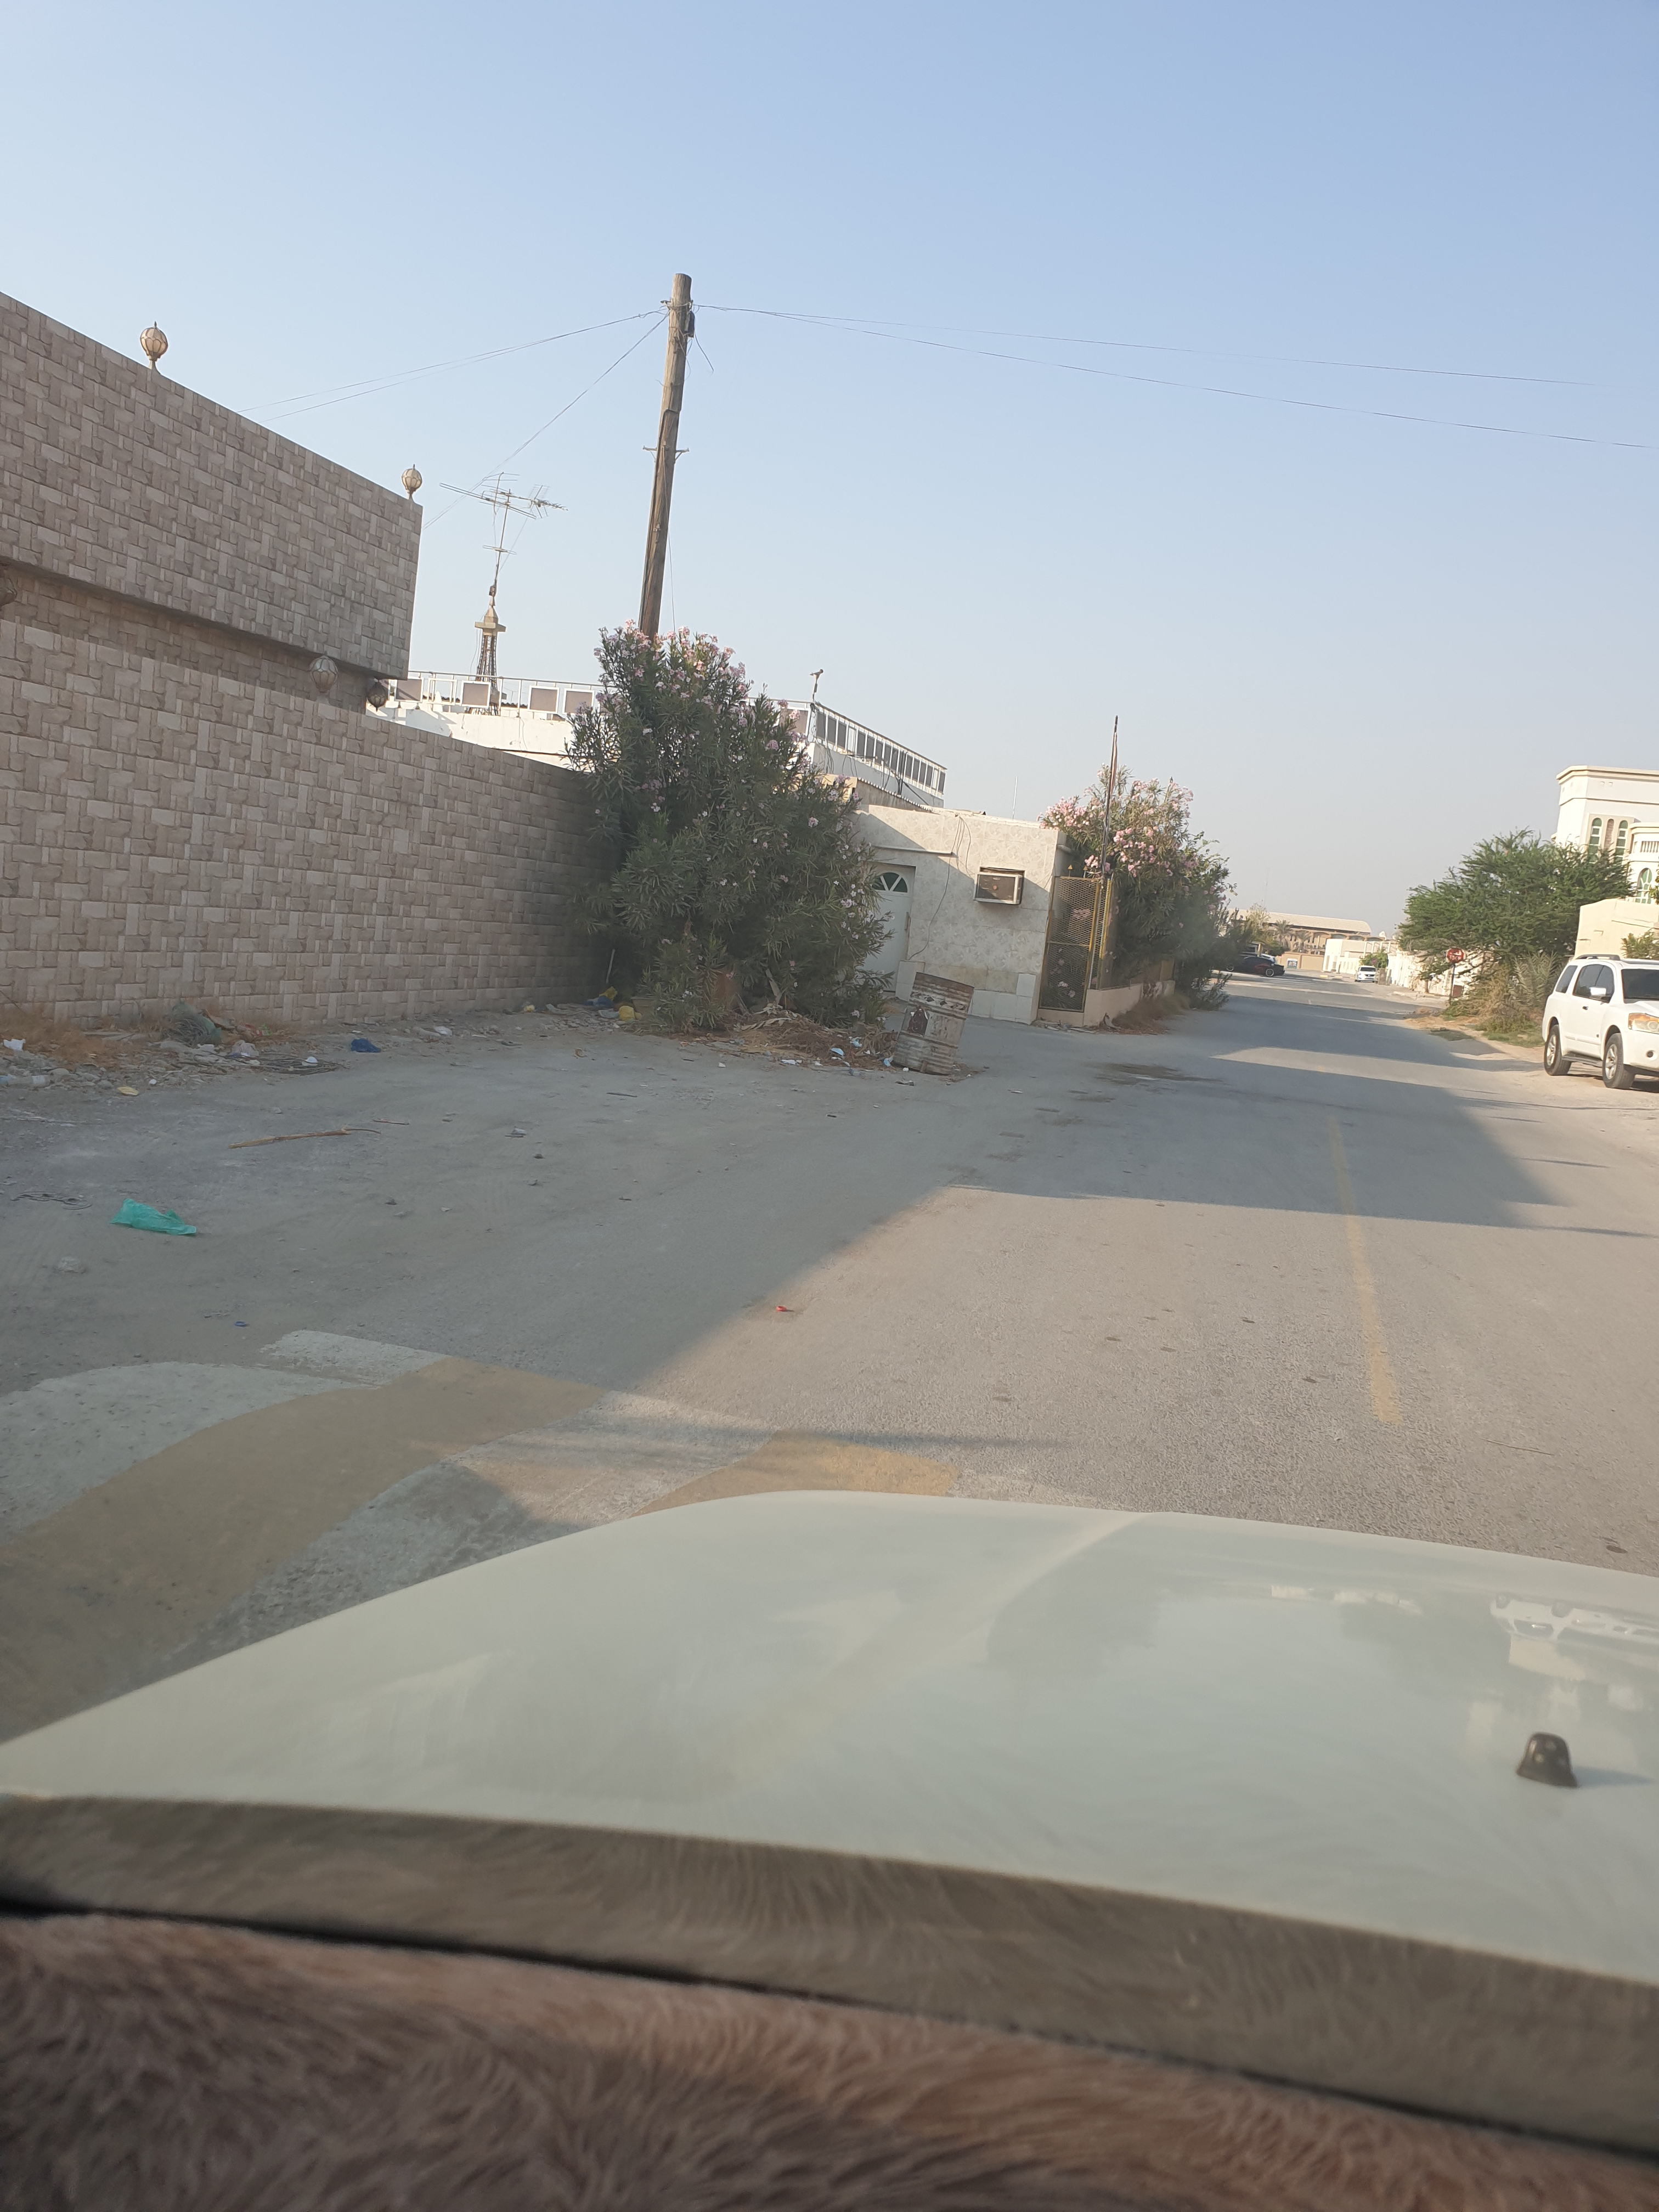fallen_trees: (66, 1017, 410, 1103), (751, 1001, 892, 1071), (265, 1108, 423, 1151)
